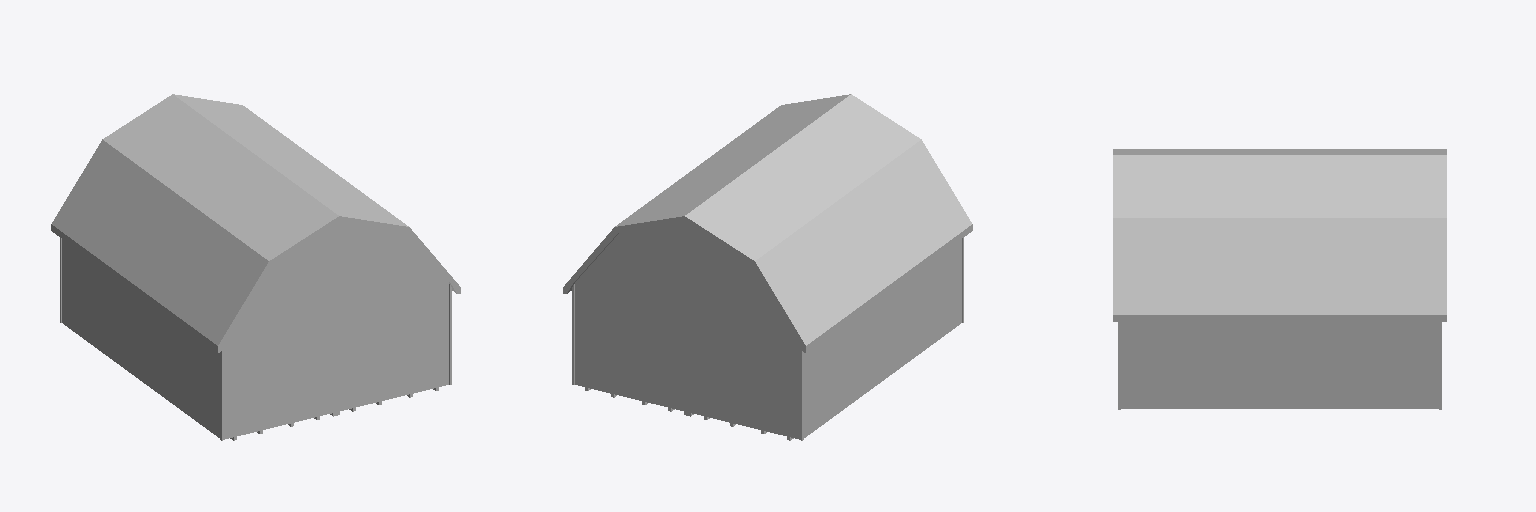
Rendered from Two Story Double Wide Garage_20x28.obj.
3 views of the same model, side by side, from view 1: azimuth 30°, elevation 25°; view 2: azimuth 150°, elevation 25°; view 3: azimuth 270°, elevation 25° (orthographic).
Parts seen in each view (by area): view 1: Two Story Double Wide Garage_20x28.obj; view 2: Two Story Double Wide Garage_20x28.obj; view 3: Two Story Double Wide Garage_20x28.obj.
Boxes of the visible parts, <box> form: Two Story Double Wide Garage_20x28.obj: <box>51,94,460,440</box>; Two Story Double Wide Garage_20x28.obj: <box>563,94,972,440</box>; Two Story Double Wide Garage_20x28.obj: <box>1113,149,1446,409</box>.
Bounding box in the file's own units: 7.43 × 5.91 × 8.84.